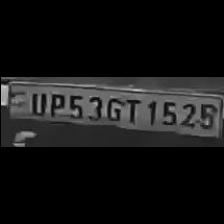1: (141, 98, 156, 127)
2: (178, 99, 196, 127)
3: (84, 92, 104, 120)
5: (156, 98, 178, 126), (63, 90, 83, 120), (196, 99, 216, 129)
G: (103, 94, 123, 122)
P: (44, 90, 64, 118)
T: (122, 95, 142, 125)
U: (26, 90, 46, 116)
